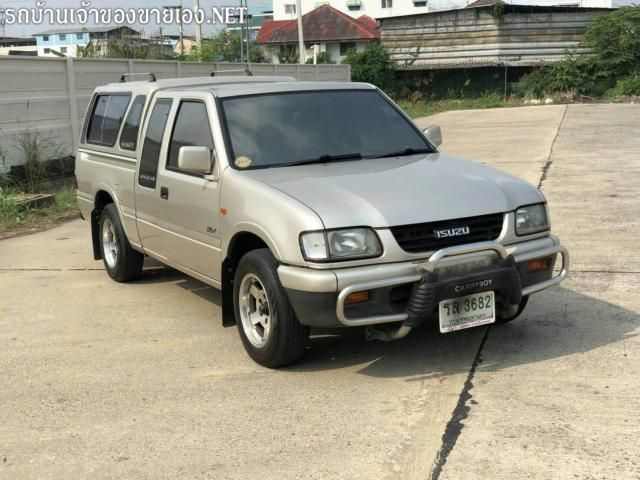pickup: (70, 72, 561, 368)
